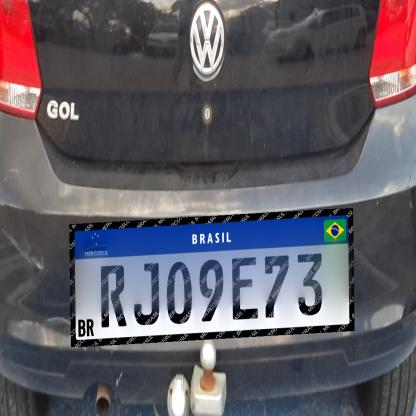PlacaM: (69, 208, 354, 347)
